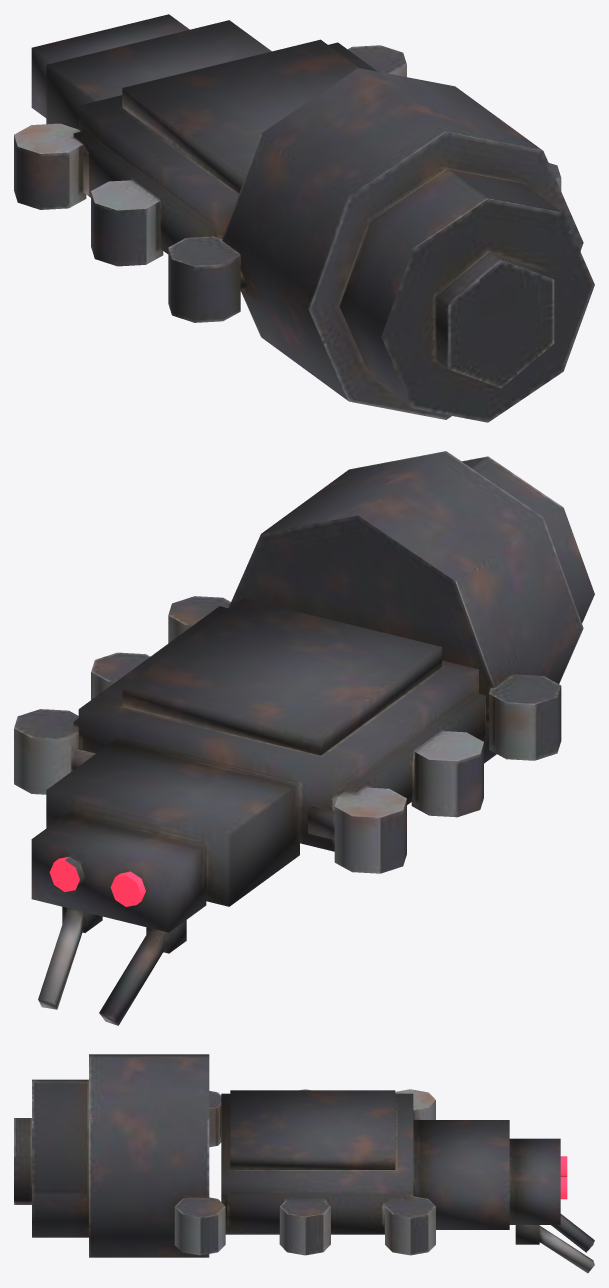
The model's file is aranha_corpo.glb.
3 renders of one model, top to bottom at view 1: azimuth 30°, elevation 25°; view 2: azimuth 150°, elevation 25°; view 3: azimuth 270°, elevation 25°, orthographic. The views are drawn at different scales.
Parts seen in each view (by area): view 1: aranha_corpo_corpo; view 2: aranha_corpo_corpo, aranha_corpo_luz; view 3: aranha_corpo_corpo, aranha_corpo_luz.
Part boxes in pixels (<box>): aranha_corpo_corpo: <box>14,14,594,422</box>; aranha_corpo_corpo: <box>14,451,594,1025</box>; aranha_corpo_luz: <box>49,857,145,906</box>; aranha_corpo_corpo: <box>14,1054,594,1273</box>; aranha_corpo_luz: <box>560,1156,567,1199</box>.
Size of the model in its own units: 1.01 by 0.745 by 1.93.
2 materials, 1 textured.
